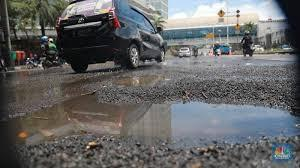Pothole: (0, 70, 300, 165)
